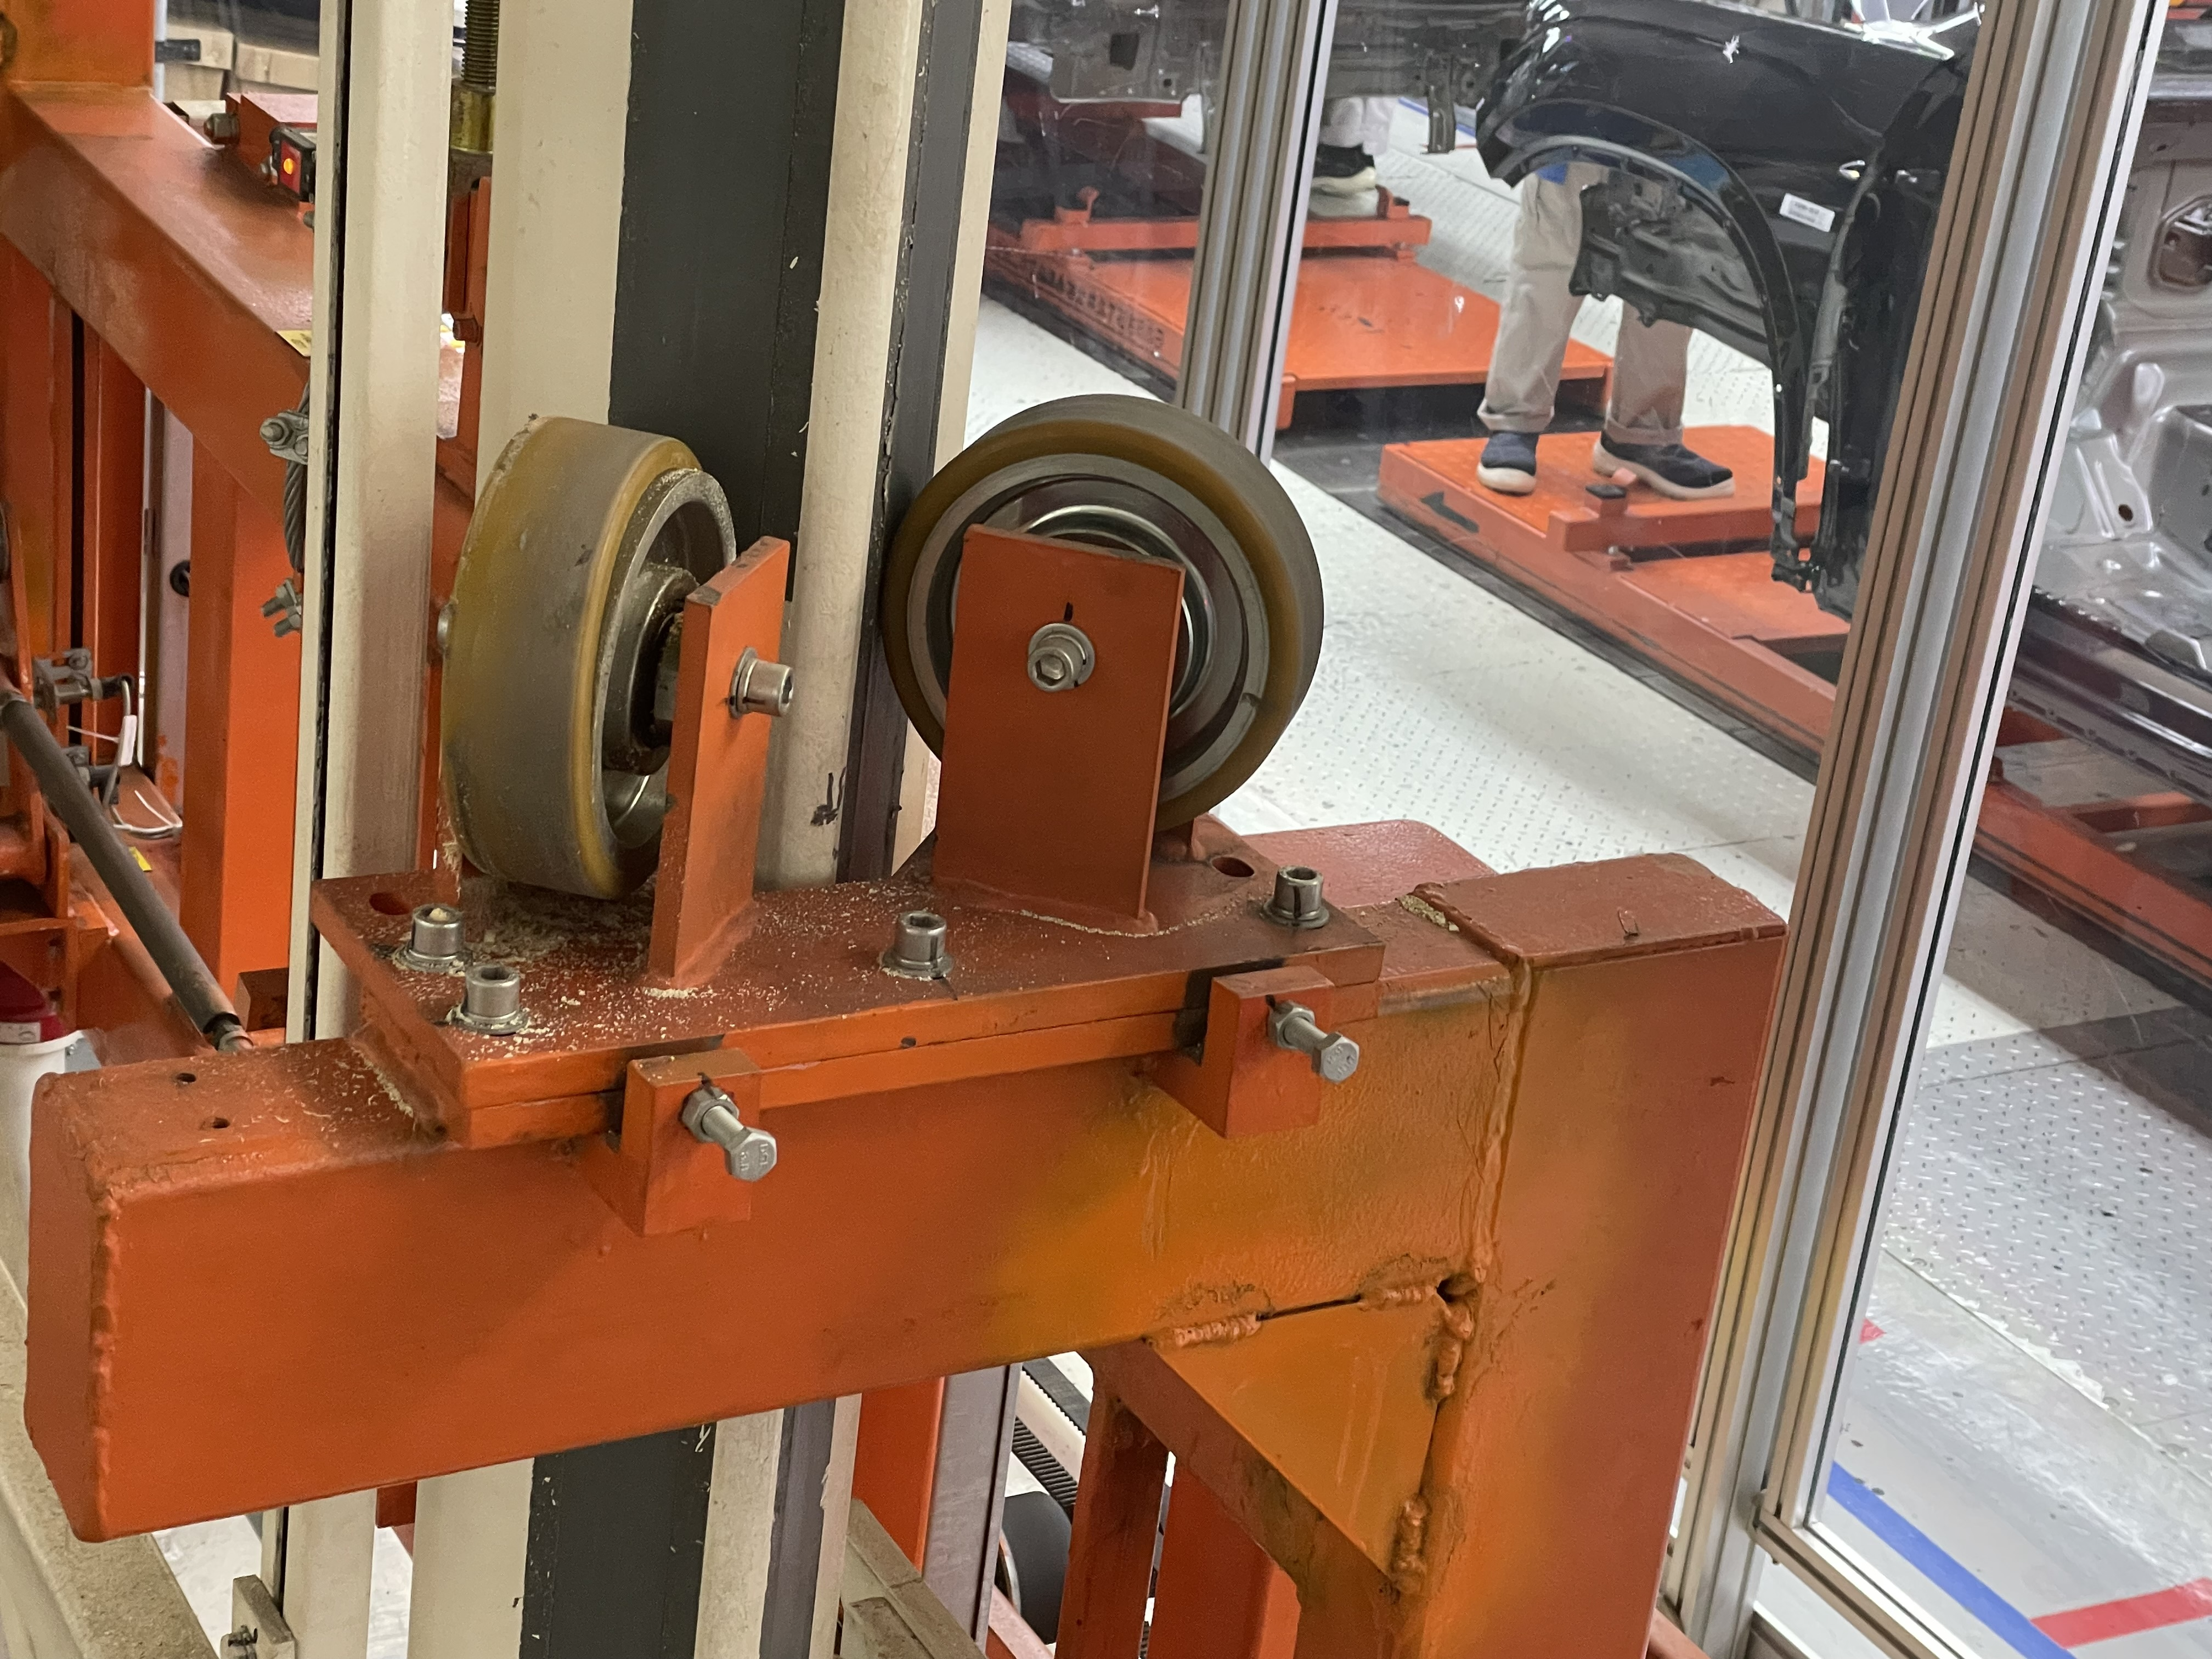bad_wheel: (577, 418, 775, 666), (462, 873, 601, 983)
good_wheel: (892, 362, 1339, 814)
